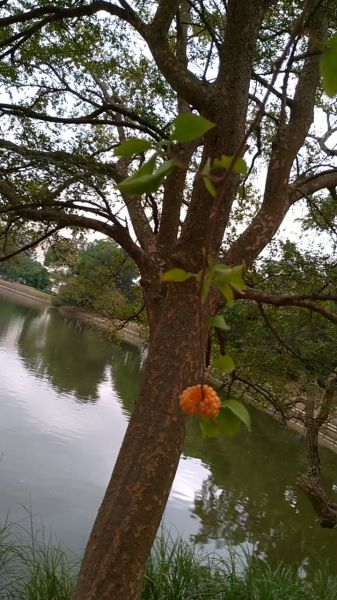eggs: (174, 380, 229, 424)
